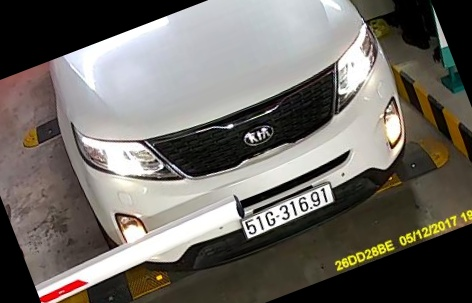plate: (236, 183, 343, 235)
